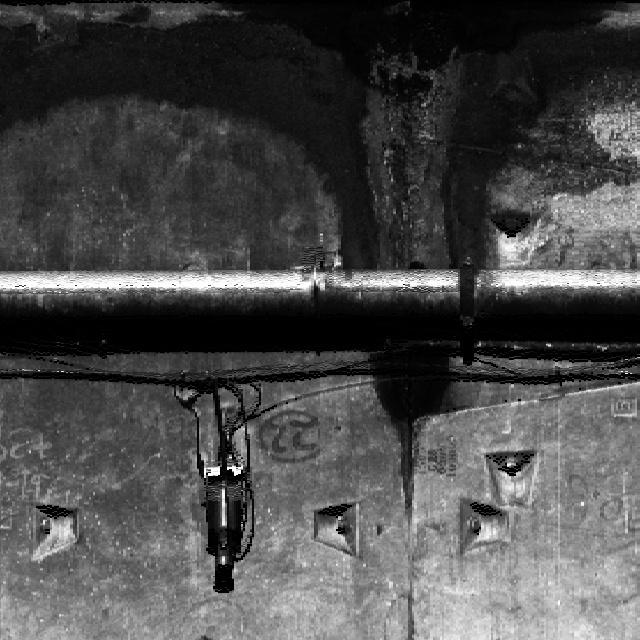leakage: (0, 0, 638, 261), (348, 340, 469, 515)
